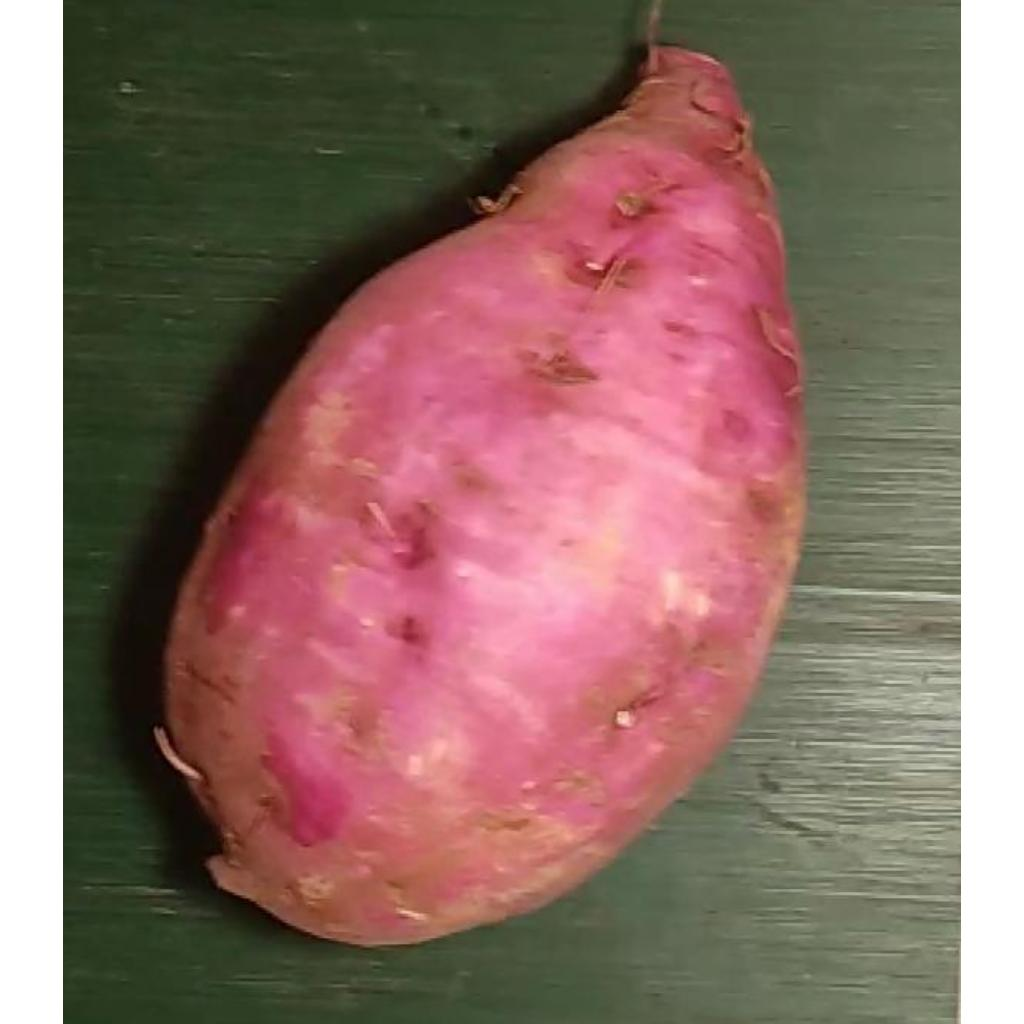Sweet Potato: (153, 43, 806, 950)
